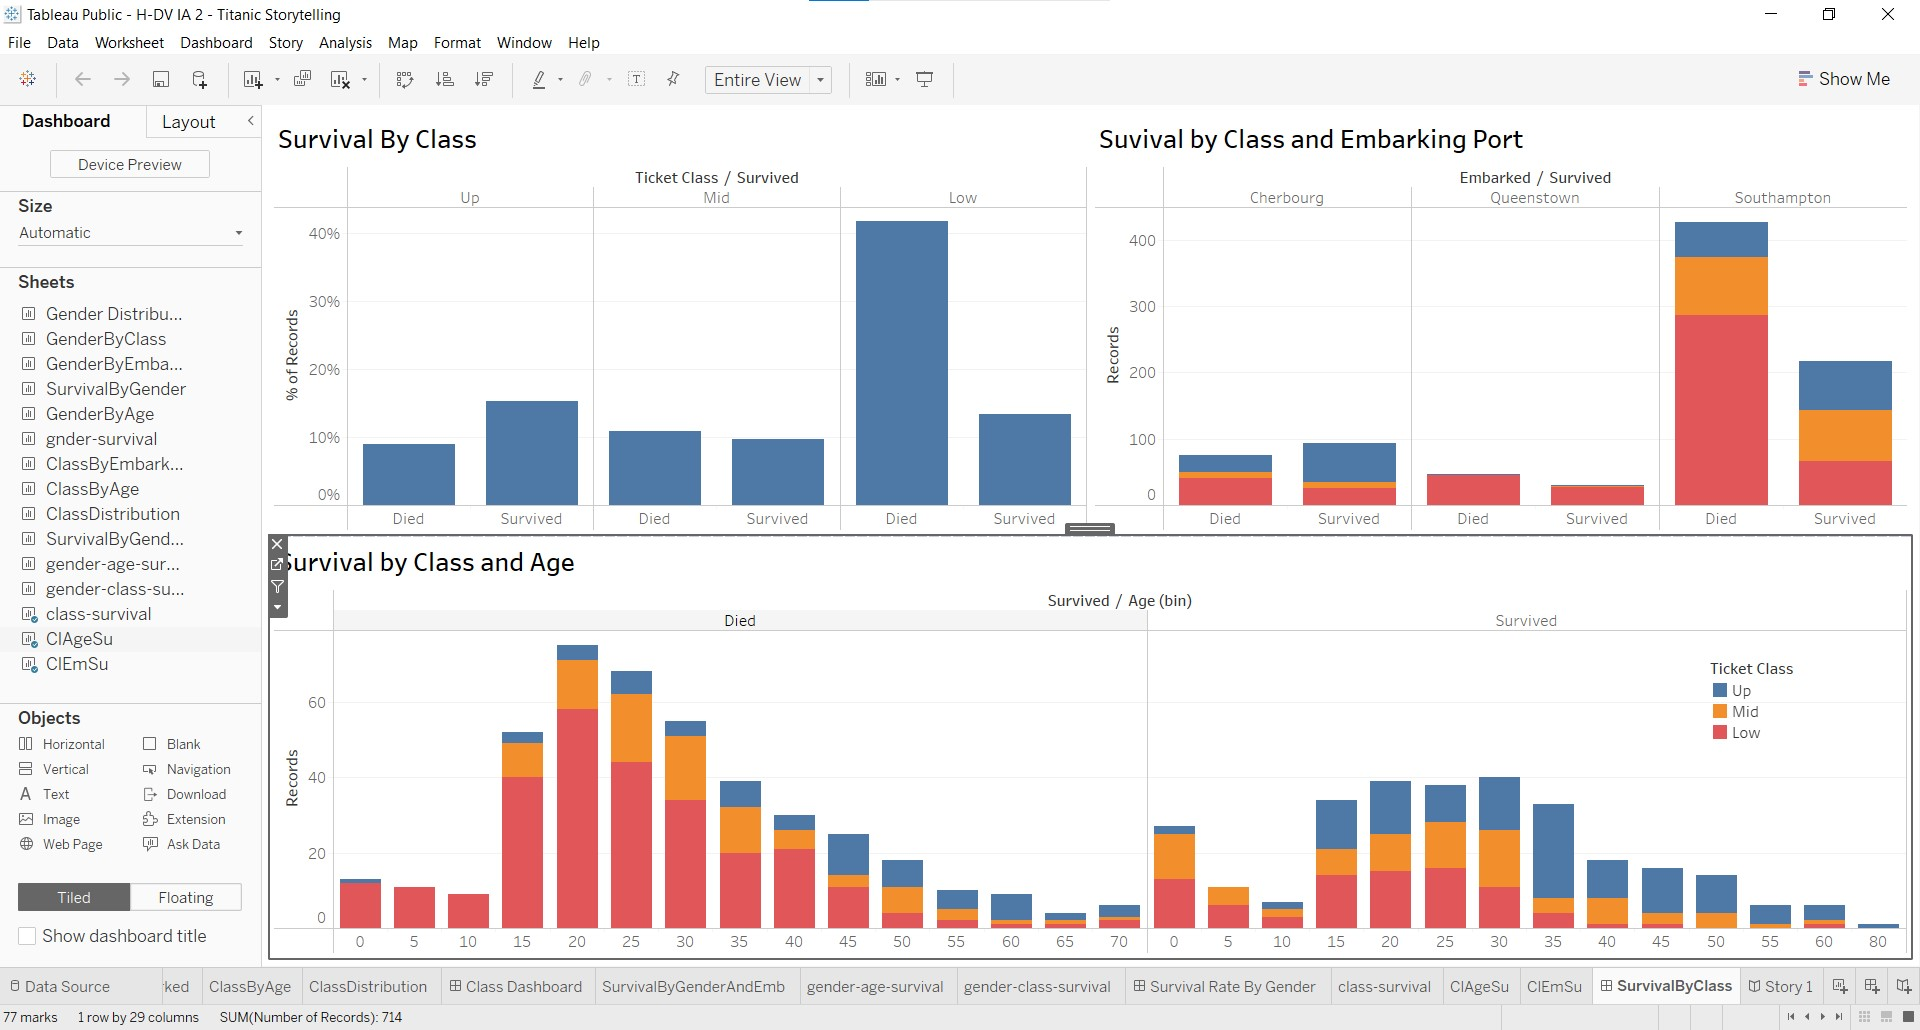

This screenshot's page, from the dashboard's own definition file:
{"tool":"tableau","page":{"name":"SurvivalByClass","canvas":[1000,1000],"units":"permille","ordinal":3},"visuals":[{"type":"worksheet","title":"class-survival","mark":"Automatic","rows":["Number of Records"],"cols":["Pclass","Survived"],"box":[4.8,9.3,495.2,490.7]},{"type":"worksheet","title":"ClEmSu","mark":"Automatic","rows":["Number of Records"],"cols":["Embarked","Survived"],"box":[500,9.3,495.2,490.7]},{"type":"worksheet","title":"ClAgeSu","mark":"Automatic","rows":["Number of Records"],"cols":["Survived","Age (bin)"],"box":[4.8,500,990.3,490.7]},{"type":"legend","title":"ClEmSu","param":"[federated.1lpd77m006dcib10ukoc00imbeq4].[none:Pclass:ok]","box":[871.5,637.6,84.5,123.1]}]}

Visuals, with their boxes on the dashboard's canvas, which has no fixed pixel size, in thousandths of its width and height (x1, y1, x2, y2). These are canvas units, not pixel positions in the 1920x1030 screenshot, which may show the page scaled, cropped or inside an application window:
"class-survival" worksheet: 5/9/500/500
"ClEmSu" worksheet: 500/9/995/500
"ClAgeSu" worksheet: 5/500/995/991
"ClEmSu" legend: 872/638/956/761
